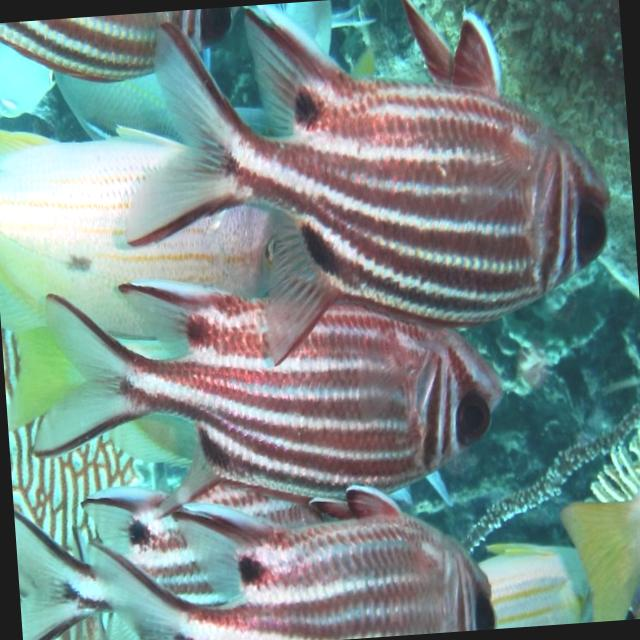Asker Baligi: (106, 0, 618, 367), (16, 253, 512, 534), (31, 511, 497, 640)
